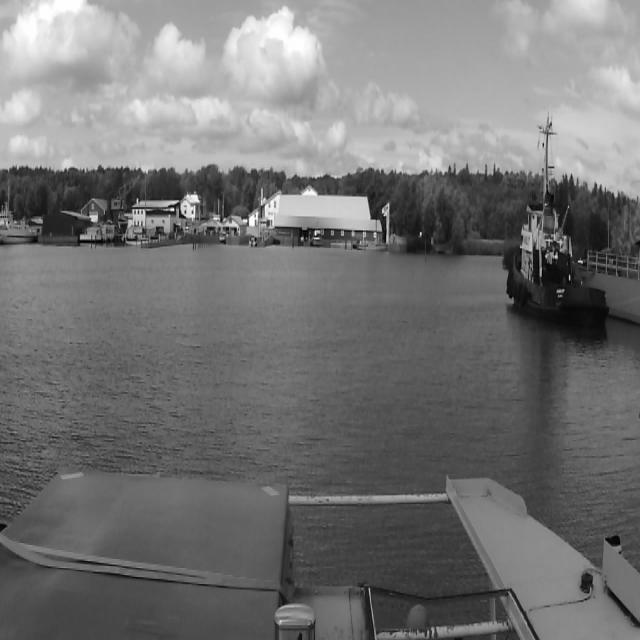ship: (508, 200, 612, 327), (354, 184, 386, 248), (310, 227, 324, 248)
